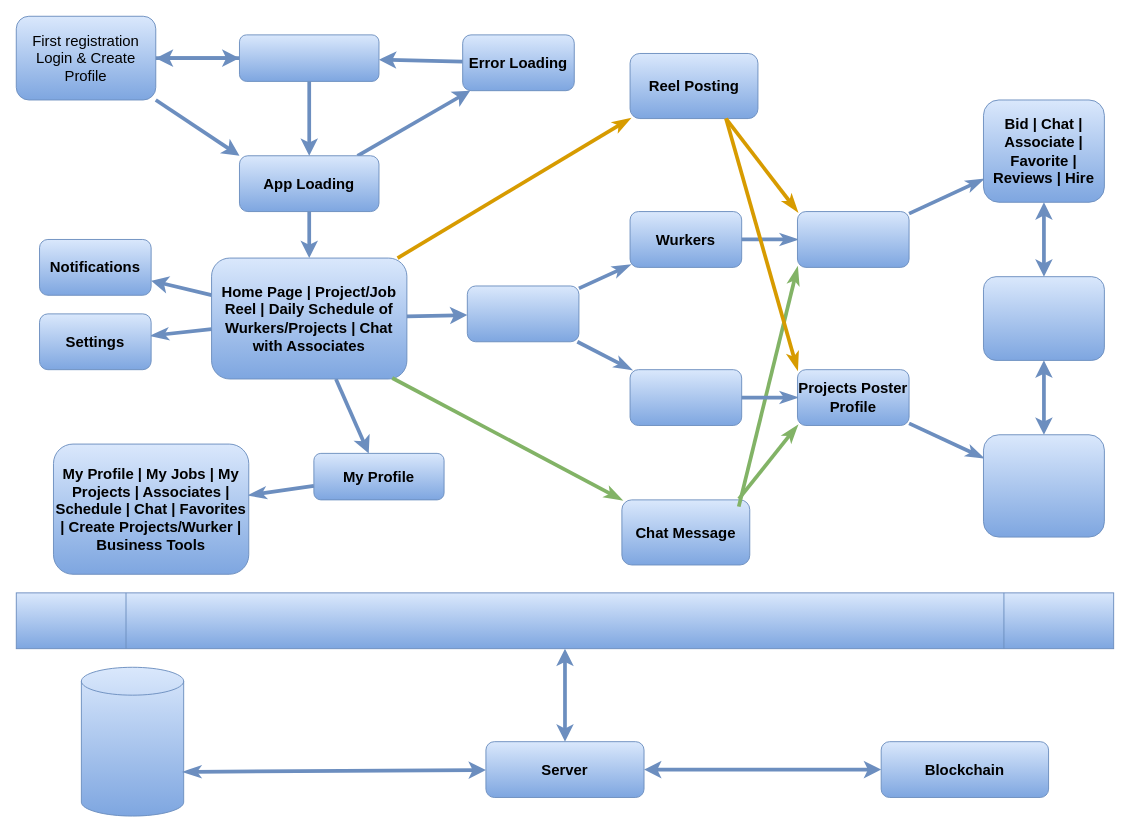
Some shapes in this 1130 by 832 pixel diagram are drawn without their labels. The shapes that lost their labels are listed below. From the top down, each one's box as (x1, y1, x2, y2) in pixels, then its label:
(239, 34, 379, 81): Login
(797, 211, 909, 267): Wurkers Profile
(466, 285, 579, 342): Search
(983, 276, 1104, 360): Payment
(629, 369, 742, 425): Projects
(983, 434, 1104, 537): Bid | Chat | Associate | Favorite | Reviews
(15, 592, 1114, 649): Data Layer
(80, 666, 184, 816): Database
